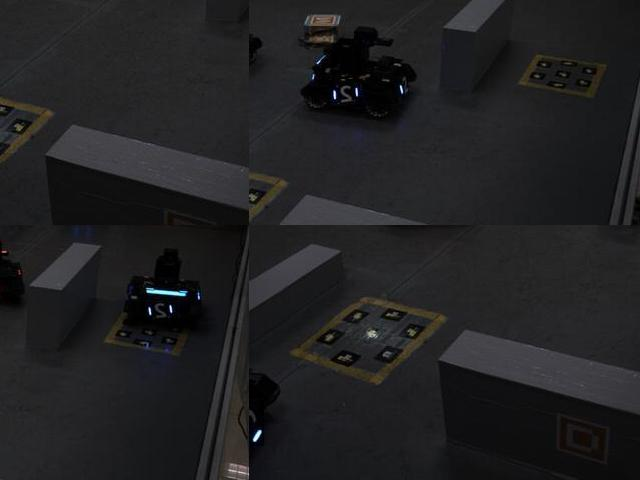armor: (329, 80, 364, 111), (249, 398, 266, 448), (146, 300, 179, 323)
